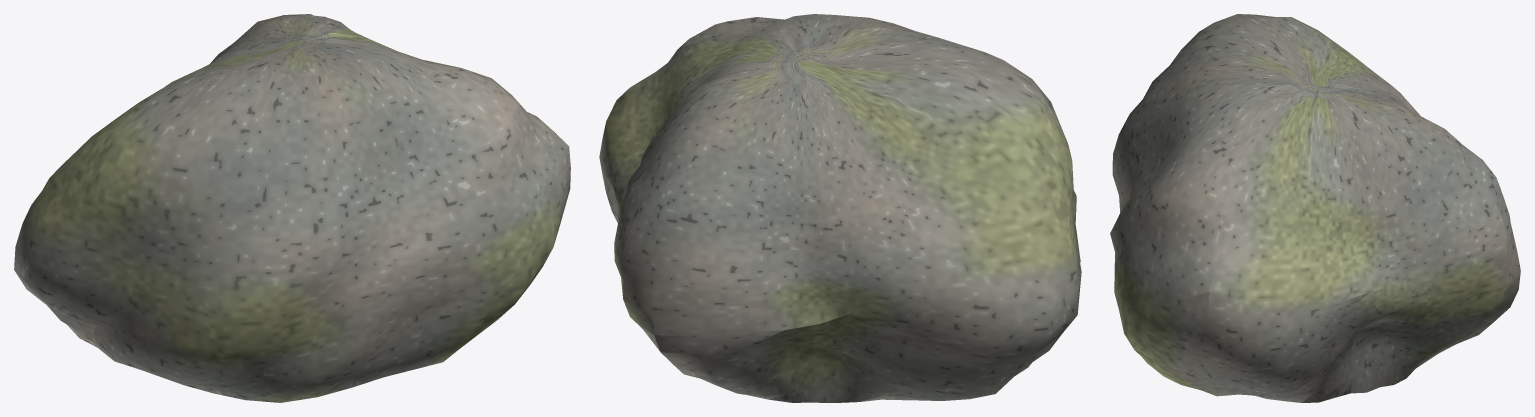
The model's file is SM_Grassland_Stone_A.glb.
The picture shows the model from 3 angles, left to right: view 1: azimuth 30°, elevation 25°; view 2: azimuth 150°, elevation 25°; view 3: azimuth 270°, elevation 25°; orthographic projection. The views are drawn at different scales.
Parts seen in each view (by area): view 1: SM_Grassland_Stone_A; view 2: SM_Grassland_Stone_A; view 3: SM_Grassland_Stone_A.
Boxes of the visible parts, bbox=[...] form: SM_Grassland_Stone_A: bbox=[14, 14, 570, 402]; SM_Grassland_Stone_A: bbox=[599, 14, 1081, 402]; SM_Grassland_Stone_A: bbox=[1110, 14, 1520, 402].
Bounding box in the file's own units: 0.703 × 0.4 × 0.5343.
1 material, 1 textured.
